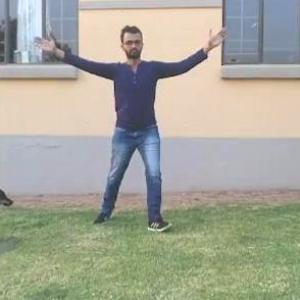takeoff: (60, 24, 235, 210)
